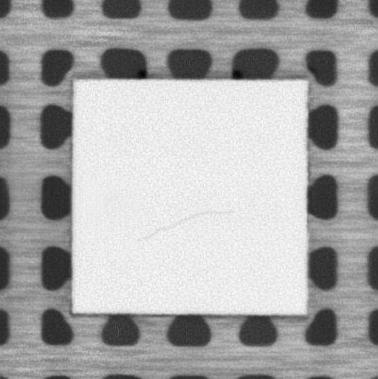DIE_CRACK: (141, 208, 235, 240)
